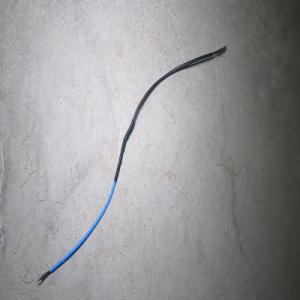Wire: (35, 43, 226, 286)
